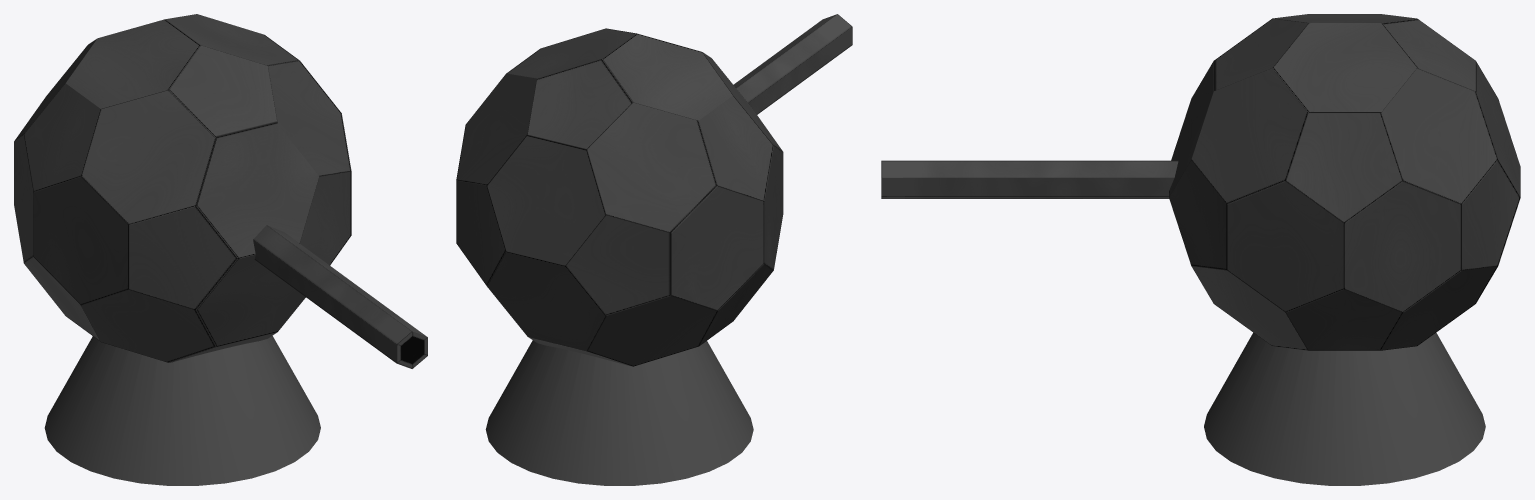
Rendered from MissleBatteryFBXLevel1.fbx.
The picture shows the model from 3 angles, left to right: view 1: azimuth 30°, elevation 25°; view 2: azimuth 150°, elevation 25°; view 3: azimuth 270°, elevation 25°; orthographic projection. The views are drawn at different scales.
Visible parts, largest first — view 1: polySurface2, polySurface4, polySurface3; view 2: polySurface2, polySurface4, polySurface3; view 3: polySurface2, polySurface4, polySurface3.
Boxes of the visible parts, x1,y1,x2,y2 form: polySurface2: [14, 14, 351, 362]; polySurface4: [44, 336, 320, 485]; polySurface3: [253, 225, 427, 368]; polySurface2: [456, 28, 783, 366]; polySurface4: [485, 340, 753, 485]; polySurface3: [733, 14, 852, 114]; polySurface2: [1169, 14, 1520, 350]; polySurface4: [1204, 332, 1485, 485]; polySurface3: [881, 160, 1178, 198].
Size of the model in its own units: 9.38 by 11.88 by 17.04.
3 materials, 3 textured.
